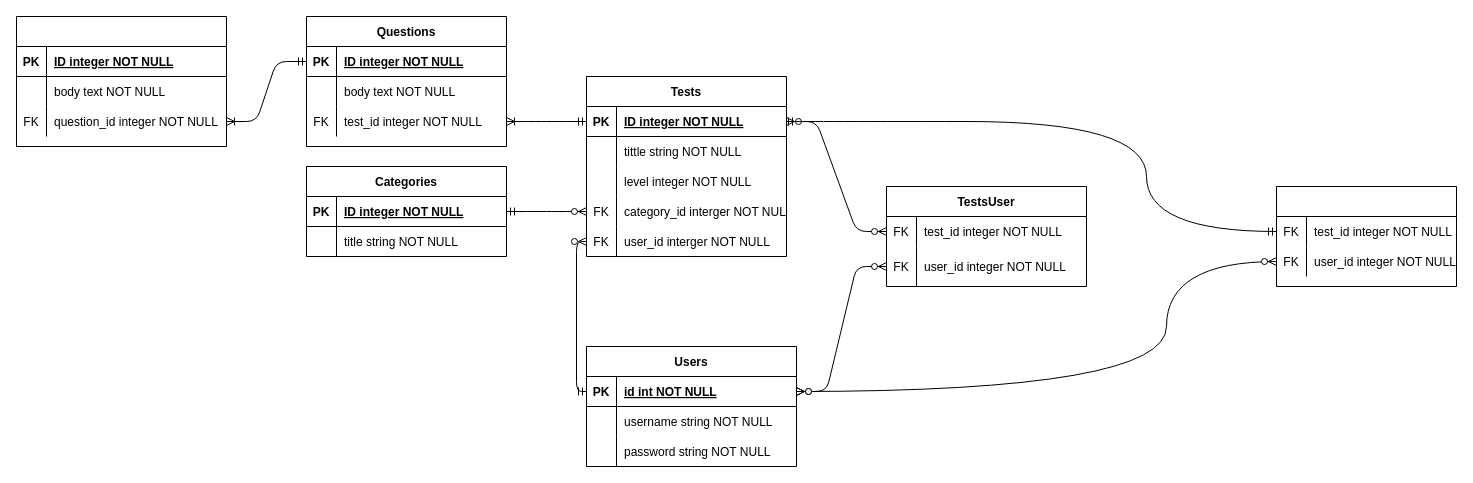
Some shapes in this 1473 by 483 pixel diagram are drawn without their labels. The box of each missing label's shape, as (x1, y1, x2, y2) in pixels:
Answers: (16, 16, 226, 146)
Authorship: (1276, 186, 1456, 286)
